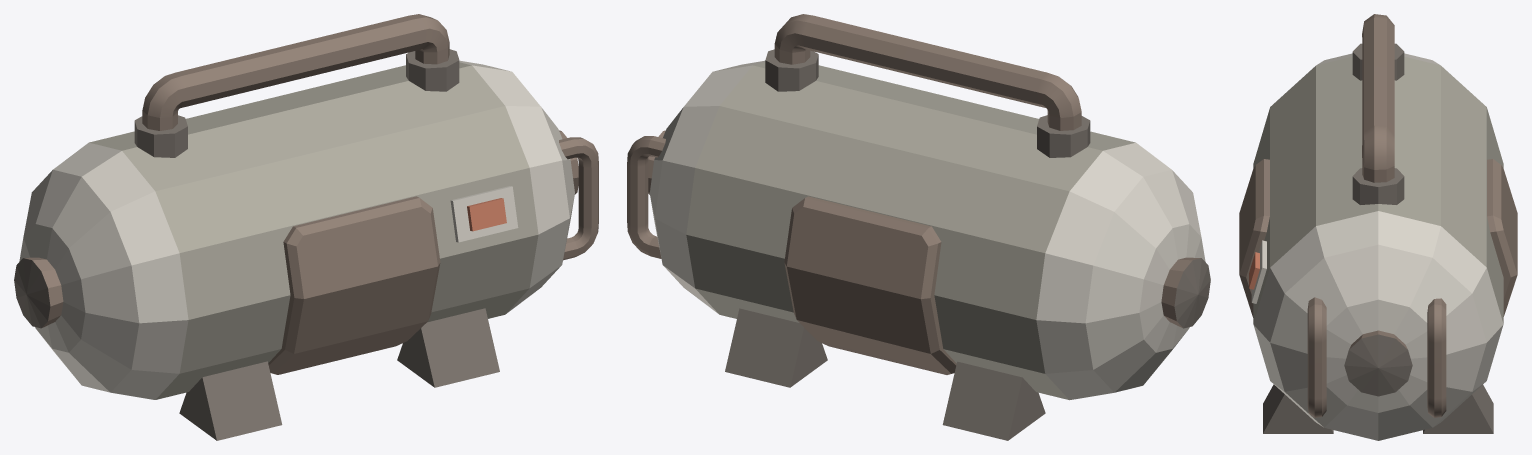
The model's file is bombona.fbx.
3 renders of one model, left to right at view 1: azimuth 30°, elevation 25°; view 2: azimuth 150°, elevation 25°; view 3: azimuth 270°, elevation 25°, orthographic. The views are drawn at different scales.
Parts seen in each view (by area): view 1: bombona, tuberia_bombona_3, base_bombona, tuberia_bombona_2, tuberia_bombona_conexion_2, tuberia_bombona_conexion_1; view 2: bombona, tuberia_bombona_3, base_bombona, tuberia_bombona_4, tuberia_bombona_conexion_1, tuberia_bombona_conexion_2; view 3: bombona, tuberia_bombona_3, base_bombona, tuberia_bombona_2, tuberia_bombona_4, tuberia_bombona_conexion_2, tuberia_bombona_conexion_1.
Part boxes in pixels (x1=…): bombona: x1=14, y1=60, x2=578, y2=399; tuberia_bombona_3: x1=142, y1=14, x2=449, y2=130; base_bombona: x1=179, y1=308, x2=499, y2=440; tuberia_bombona_2: x1=559, y1=137, x2=598, y2=260; tuberia_bombona_conexion_2: x1=406, y1=49, x2=459, y2=91; tuberia_bombona_conexion_1: x1=134, y1=115, x2=187, y2=157; bombona: x1=648, y1=60, x2=1210, y2=400; tuberia_bombona_3: x1=774, y1=14, x2=1081, y2=130; base_bombona: x1=725, y1=308, x2=1045, y2=440; tuberia_bombona_4: x1=627, y1=136, x2=665, y2=258; tuberia_bombona_conexion_1: x1=1037, y1=115, x2=1090, y2=157; tuberia_bombona_conexion_2: x1=765, y1=49, x2=818, y2=91; bombona: x1=1239, y1=53, x2=1517, y2=440; tuberia_bombona_3: x1=1362, y1=14, x2=1394, y2=182; base_bombona: x1=1263, y1=384, x2=1493, y2=433; tuberia_bombona_2: x1=1307, y1=297, x2=1326, y2=417; tuberia_bombona_4: x1=1427, y1=298, x2=1446, y2=417; tuberia_bombona_conexion_2: x1=1352, y1=168, x2=1404, y2=204; tuberia_bombona_conexion_1: x1=1352, y1=43, x2=1404, y2=80.
Bounding box in the file's own units: 91.86 × 51.25 × 43.55.
